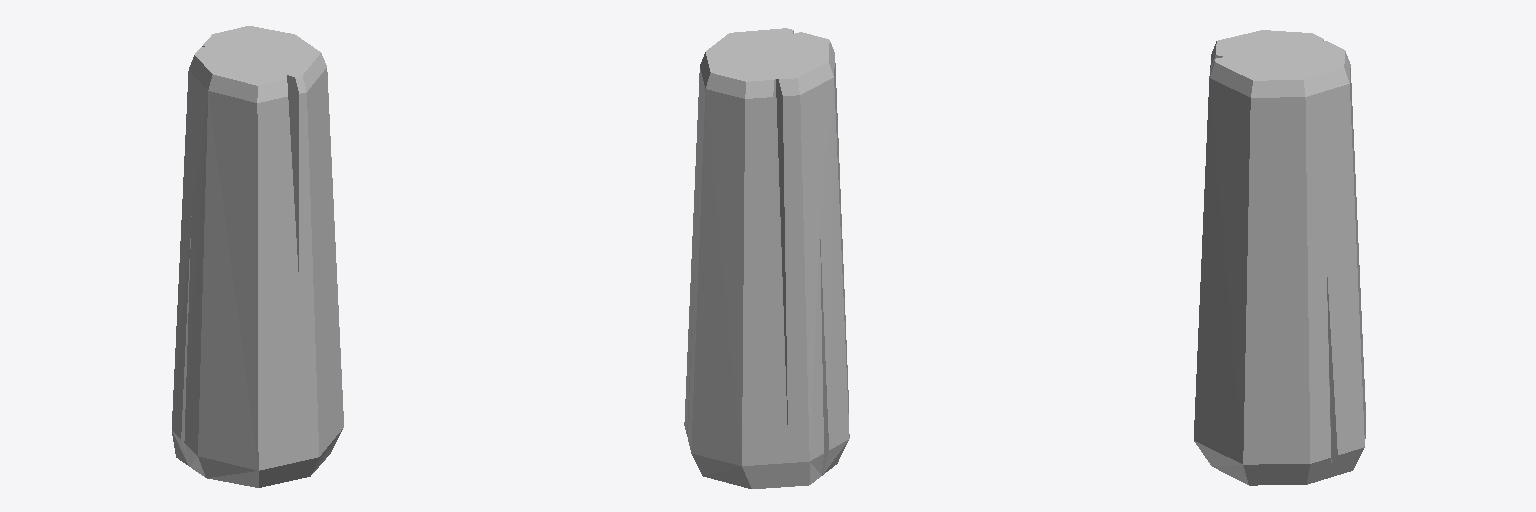
Rendered from palanca_roca.obj.
3 views of the same model, side by side, from view 1: azimuth 30°, elevation 25°; view 2: azimuth 150°, elevation 25°; view 3: azimuth 270°, elevation 25° (orthographic).
Visible parts, largest first — view 1: palanca_roca1 palancas_prueba; view 2: palanca_roca1 palancas_prueba; view 3: palanca_roca1 palancas_prueba.
Part boxes in pixels (left/top/right/bottom): palanca_roca1 palancas_prueba: left=172, top=26, right=343, bottom=487; palanca_roca1 palancas_prueba: left=684, top=28, right=849, bottom=488; palanca_roca1 palancas_prueba: left=1194, top=30, right=1365, bottom=485.
Bounding box in the file's own units: 16.77 × 46.05 × 17.97.